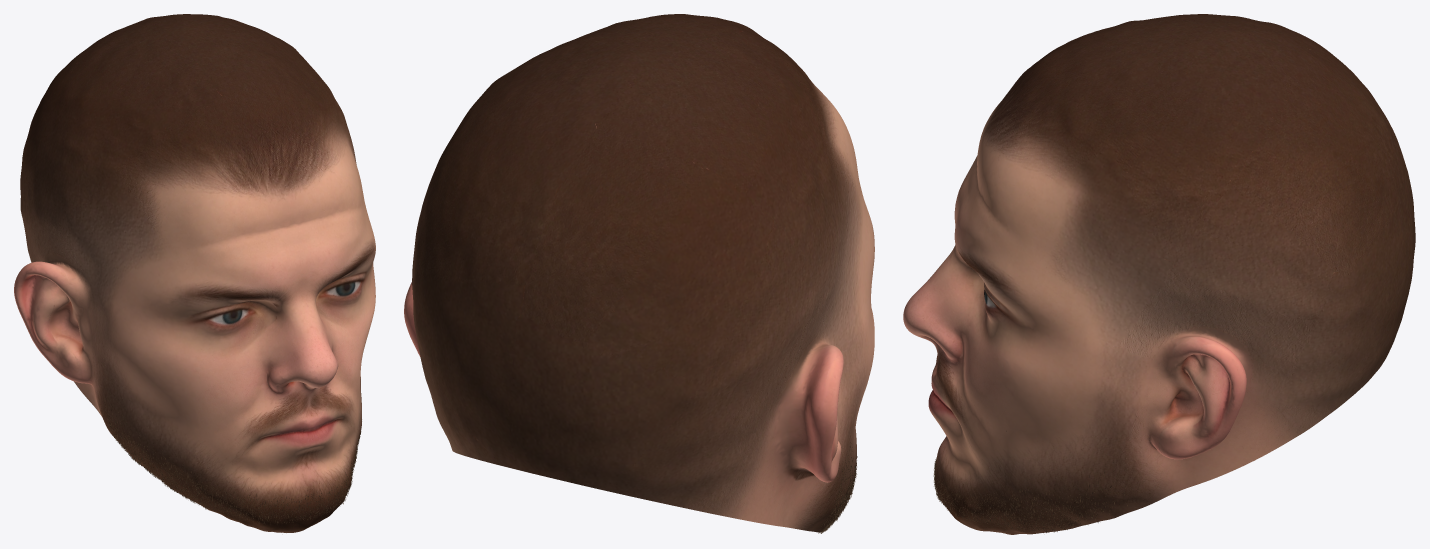
The model's file is head-beard-web-v1.glb.
3 views of the same model, side by side, from view 1: azimuth 30°, elevation 25°; view 2: azimuth 150°, elevation 25°; view 3: azimuth 270°, elevation 25° (orthographic). The views are drawn at different scales.
Parts seen in each view (by area): view 1: Head rotation pivot, Beard_Hairs; view 2: Head rotation pivot, Beard_Hairs; view 3: Head rotation pivot, Beard_Hairs.
Part boxes in pixels (bbox=[...]): Head rotation pivot: bbox=[14, 14, 375, 532]; Beard_Hairs: bbox=[103, 391, 361, 524]; Head rotation pivot: bbox=[404, 14, 874, 532]; Beard_Hairs: bbox=[818, 442, 857, 533]; Head rotation pivot: bbox=[903, 14, 1415, 534]; Beard_Hairs: bbox=[933, 458, 1128, 532].
Bounding box in the file's own units: 2.06 × 2.55 × 2.4.
5 materials, 1 textured.
